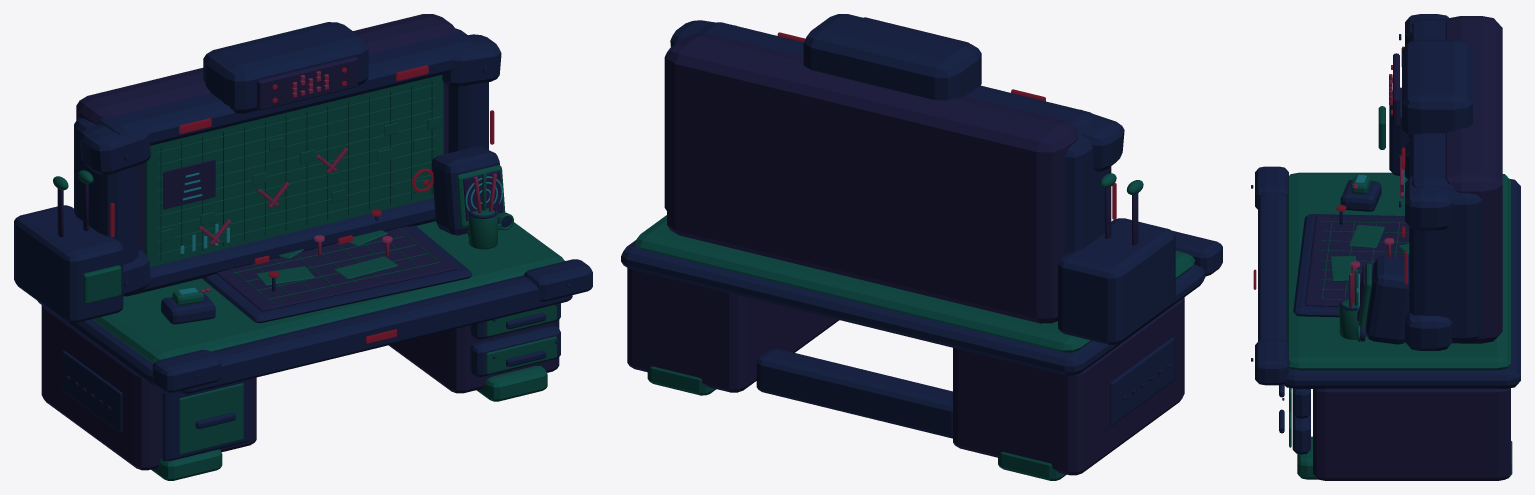
File: prp_base_mission_operations_visual_top3d_v005.glb
The picture shows the model from 3 angles, left to right: view 1: azimuth 30°, elevation 25°; view 2: azimuth 150°, elevation 25°; view 3: azimuth 270°, elevation 25°; orthographic projection. The views are drawn at different scales.
Parts seen in each view (by area): view 1: 远征情报终端_主体_金属哑光反光, 远征情报终端_UI灯光_柔和自发光; view 2: 远征情报终端_主体_金属哑光反光; view 3: 远征情报终端_主体_金属哑光反光, 远征情报终端_UI灯光_柔和自发光.
Part boxes in pixels (x1,y1,x2,y2): 远征情报终端_主体_金属哑光反光: (14, 14, 592, 480); 远征情报终端_UI灯光_柔和自发光: (110, 65, 502, 343); 远征情报终端_主体_金属哑光反光: (621, 14, 1222, 480); 远征情报终端_主体_金属哑光反光: (1251, 14, 1520, 480); 远征情报终端_UI灯光_柔和自发光: (1253, 46, 1407, 310).
Bounding box in the file's own units: 5 × 3.55 × 2.68.
Materials: 4 (4 with a texture image).
